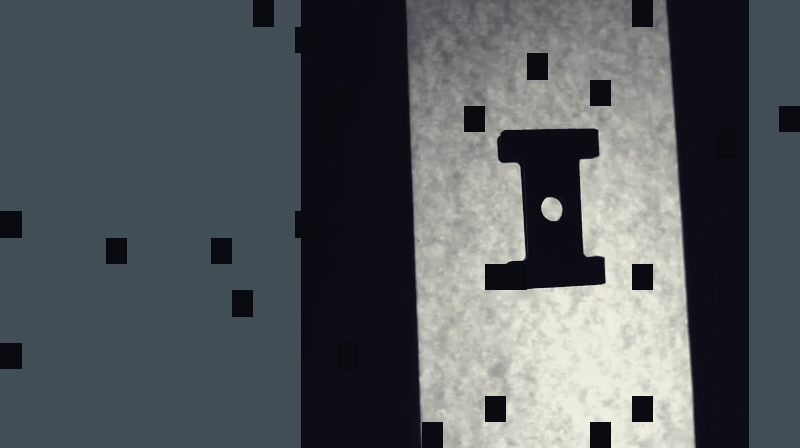O002: (492, 121, 609, 289)
